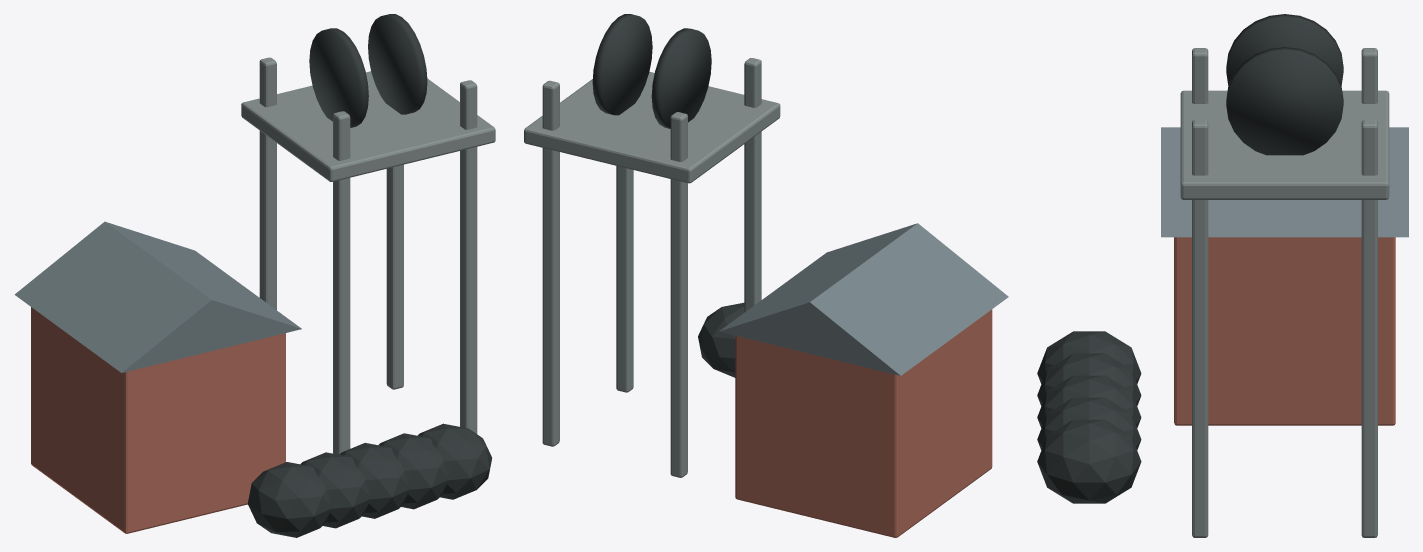
Rendered from coal_mine.glb.
3 views of the same model, side by side, from view 1: azimuth 30°, elevation 25°; view 2: azimuth 150°, elevation 25°; view 3: azimuth 270°, elevation 25° (orthographic). The views are drawn at different scales.
Parts seen in each view (by area): view 1: coal_mine_brick, coal_mine_steel, coal_mine_black, coal_mine_tile; view 2: coal_mine_brick, coal_mine_steel, coal_mine_tile, coal_mine_black; view 3: coal_mine_brick, coal_mine_black, coal_mine_steel, coal_mine_tile.
Boxes of the visible parts, <box> form: coal_mine_brick: <box>31,307,285,533</box>; coal_mine_steel: <box>241,57,495,454</box>; coal_mine_black: <box>247,14,491,537</box>; coal_mine_tile: <box>14,221,301,372</box>; coal_mine_brick: <box>735,309,992,537</box>; coal_mine_steel: <box>524,58,780,477</box>; coal_mine_tile: <box>719,223,1008,375</box>; coal_mine_black: <box>592,14,744,377</box>; coal_mine_brick: <box>1174,237,1395,425</box>; coal_mine_black: <box>1037,14,1343,503</box>; coal_mine_steel: <box>1180,48,1389,537</box>; coal_mine_tile: <box>1161,127,1408,237</box>.
Size of the model in its own units: 7.85 by 7.95 by 5.7.
